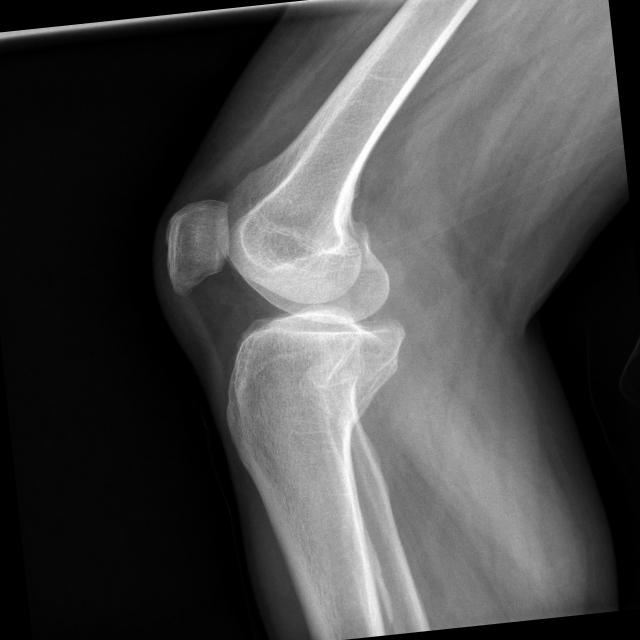Knee: (157, 178, 412, 406)
